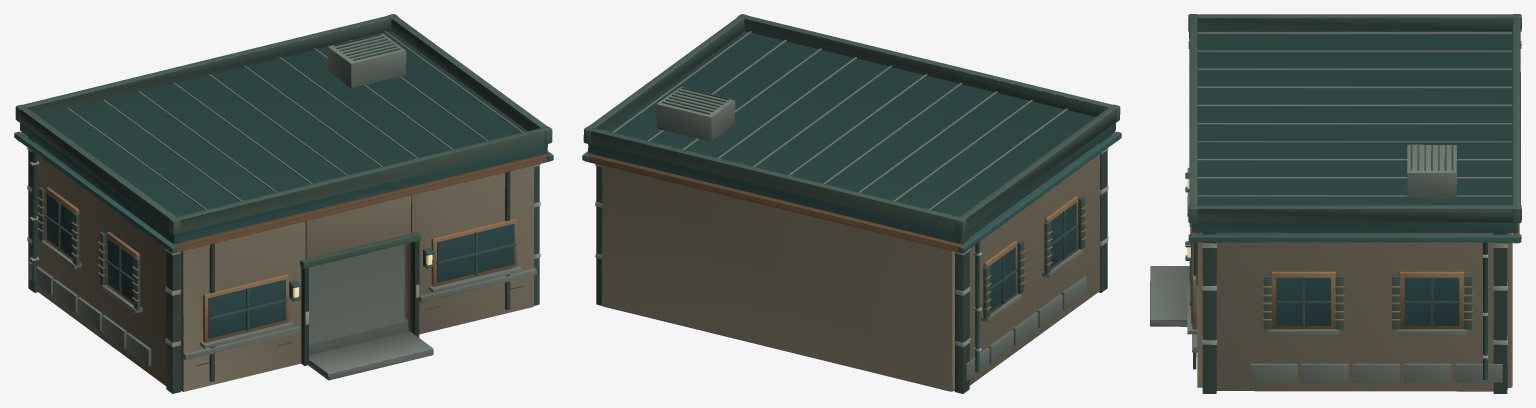
The model's file is kf-storage-balanced.glb.
3 renders of one model, left to right at view 1: azimuth 30°, elevation 25°; view 2: azimuth 150°, elevation 25°; view 3: azimuth 270°, elevation 25°, orthographic. The views are drawn at different scales.
Visible parts, largest first — view 1: Roof Roof metal, Shell Painted plaster, RoofDetail Timber trim, Shell Foundation, Shell Timber trim, Shell Window glass, Shell Warm wood, RoofDetail Brushed hardware, RoofDetail Foundation, Shell Roof metal, Shell Brushed hardware; view 2: Shell Painted plaster, Roof Roof metal, RoofDetail Timber trim, Shell Timber trim, Shell Warm wood, RoofDetail Brushed hardware, Shell Foundation, RoofDetail Foundation, Shell Roof metal, Shell Window glass, Shell Brushed hardware; view 3: Roof Roof metal, Shell Painted plaster, RoofDetail Timber trim, Shell Foundation, RoofDetail Brushed hardware, Shell Timber trim, Shell Window glass, Shell Roof metal, Shell Warm wood, RoofDetail Foundation, Shell Brushed hardware.
Part boxes in pixels (<box>): Roof Roof metal: <box>20,31,547,243</box>; Shell Painted plaster: <box>36,142,534,391</box>; RoofDetail Timber trim: <box>15,14,552,234</box>; Shell Foundation: <box>28,221,536,380</box>; Shell Timber trim: <box>28,137,539,393</box>; Shell Window glass: <box>47,194,514,338</box>; Shell Warm wood: <box>16,132,550,342</box>; RoofDetail Brushed hardware: <box>68,31,523,209</box>; RoofDetail Foundation: <box>327,33,406,87</box>; Shell Roof metal: <box>14,131,553,301</box>; Shell Brushed hardware: <box>27,147,540,347</box>; Shell Painted plaster: <box>602,143,1099,391</box>; Roof Roof metal: <box>588,31,1115,243</box>; RoofDetail Timber trim: <box>583,14,1120,234</box>; Shell Timber trim: <box>596,137,1107,393</box>; Shell Warm wood: <box>585,132,1118,316</box>; RoofDetail Brushed hardware: <box>612,31,1067,209</box>; Shell Foundation: <box>952,249,1086,391</box>; RoofDetail Foundation: <box>656,87,735,141</box>; Shell Roof metal: <box>582,131,1121,372</box>; Shell Window glass: <box>989,202,1076,311</box>; Shell Brushed hardware: <box>595,148,1108,351</box>; Roof Roof metal: <box>1192,31,1517,232</box>; Shell Painted plaster: <box>1197,232,1512,391</box>; RoofDetail Timber trim: <box>1188,14,1521,222</box>; Shell Foundation: <box>1150,167,1502,382</box>; RoofDetail Brushed hardware: <box>1197,32,1512,196</box>; Shell Timber trim: <box>1189,232,1507,393</box>; Shell Window glass: <box>1191,243,1459,325</box>; Shell Roof metal: <box>1185,41,1521,379</box>; Shell Warm wood: <box>1190,223,1519,329</box>; RoofDetail Foundation: <box>1407,144,1456,198</box>; Shell Brushed hardware: <box>1189,223,1507,358</box>.
Bounding box in the file's own units: 10.88 × 5.31 × 8.69.
